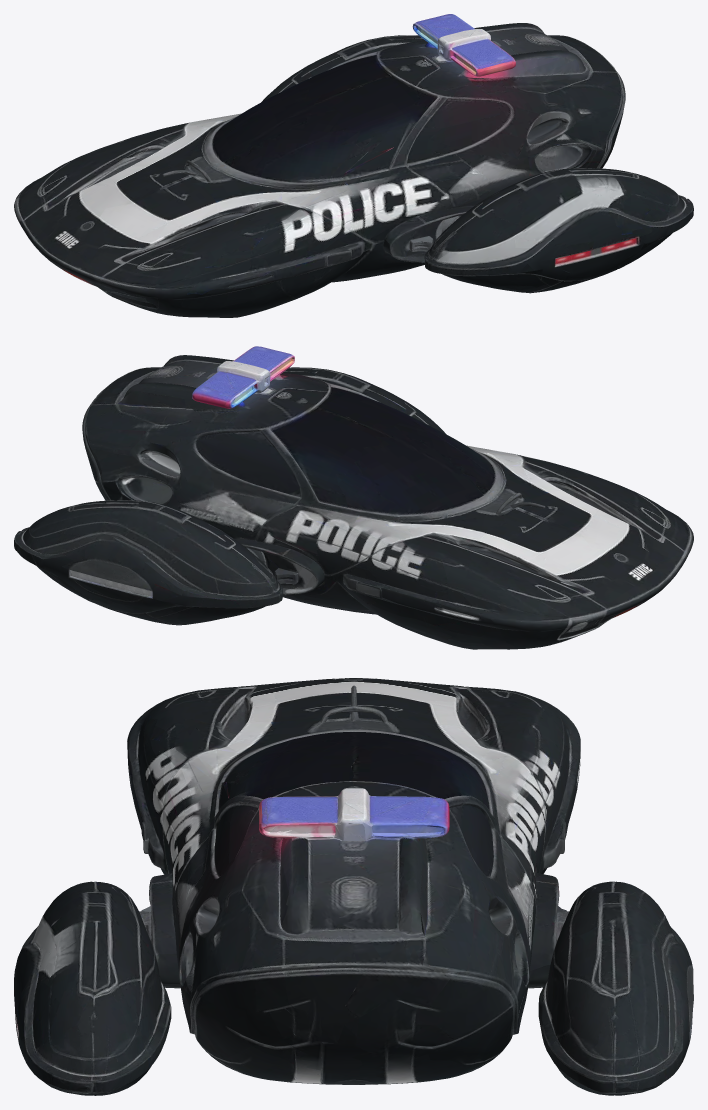
Rendered from mx_police_hovercar.glb.
3 views of the same model, one above another, from view 1: azimuth 30°, elevation 25°; view 2: azimuth 150°, elevation 25°; view 3: azimuth 270°, elevation 25° (orthographic). The views are drawn at different scales.
Bounding box in the file's own units: 1.9 × 0.625 × 1.41.
1 material, 1 textured.
